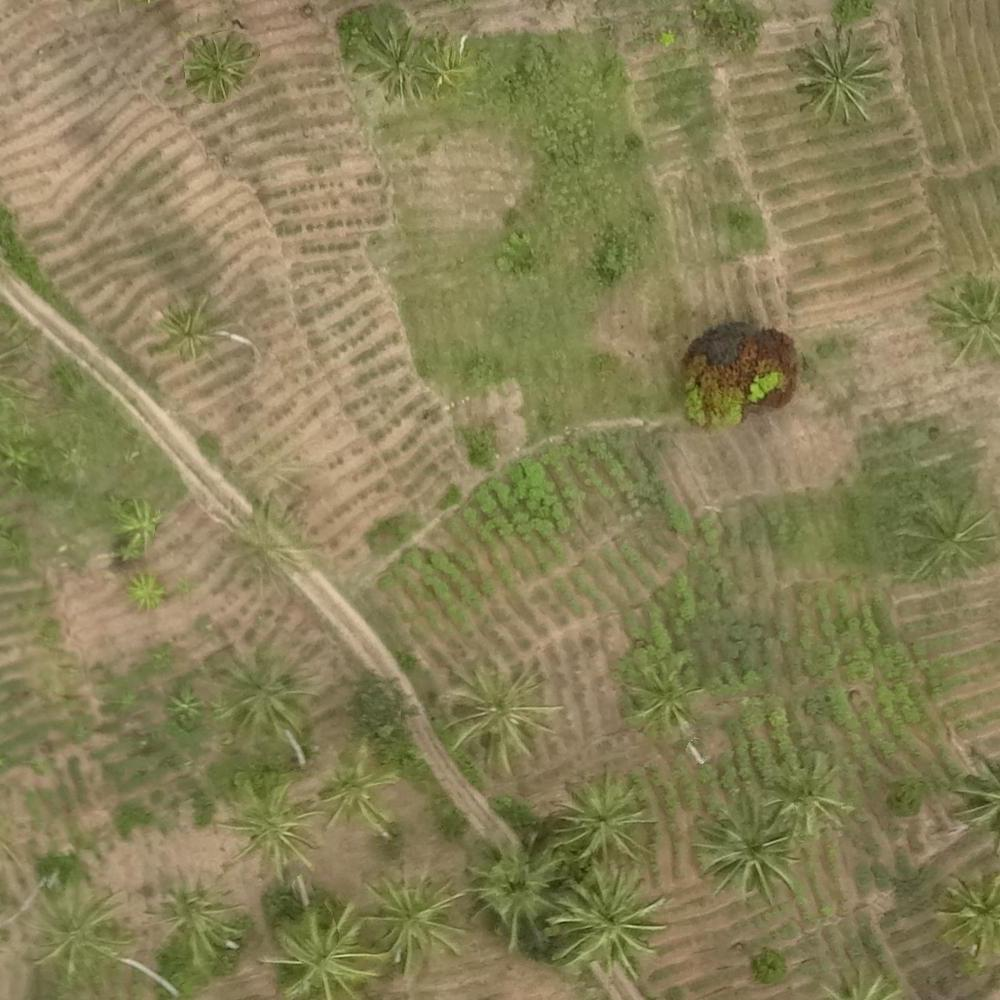Palm: (690, 794, 806, 902), (555, 863, 666, 967), (440, 666, 548, 763), (268, 902, 378, 997), (29, 882, 133, 982), (465, 839, 565, 941), (360, 873, 464, 967), (220, 499, 311, 598), (221, 778, 314, 873), (895, 495, 991, 585), (214, 656, 311, 745), (151, 874, 247, 962), (554, 774, 648, 861), (794, 33, 884, 122), (320, 748, 402, 836), (922, 278, 999, 366), (766, 757, 848, 836), (356, 23, 433, 99), (627, 663, 700, 734), (182, 39, 249, 98), (155, 301, 219, 358), (420, 39, 477, 96)
